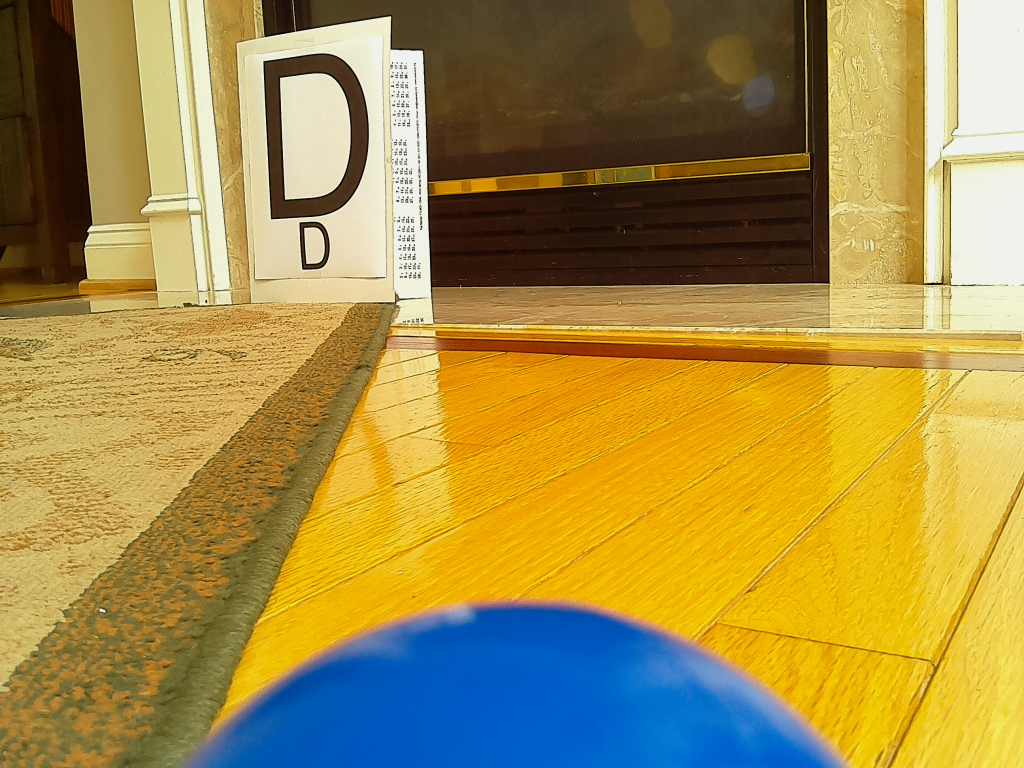letter: (268, 52, 370, 218)
